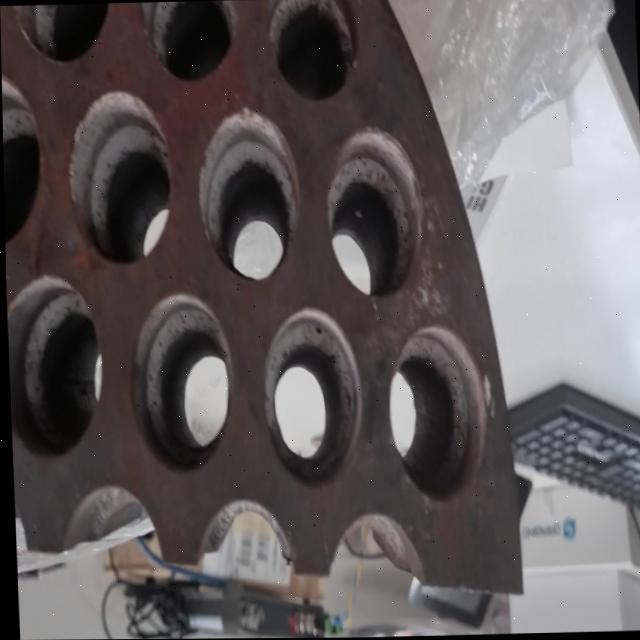Hole: (125, 292, 235, 476), (382, 325, 492, 505), (64, 89, 174, 268), (258, 306, 363, 491), (194, 106, 302, 284), (5, 272, 102, 463), (322, 127, 424, 303), (267, 0, 360, 104), (138, 0, 238, 85), (1, 66, 43, 248), (4, 3, 115, 65)
